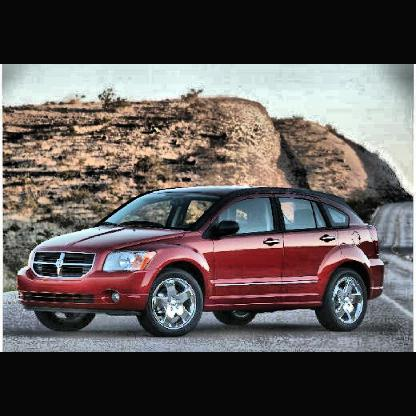Dodge Caliber Wagon 2007: (16, 181, 389, 341)
